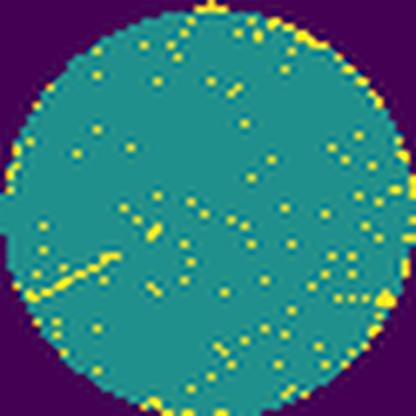Scratch: (21, 244, 126, 308)
